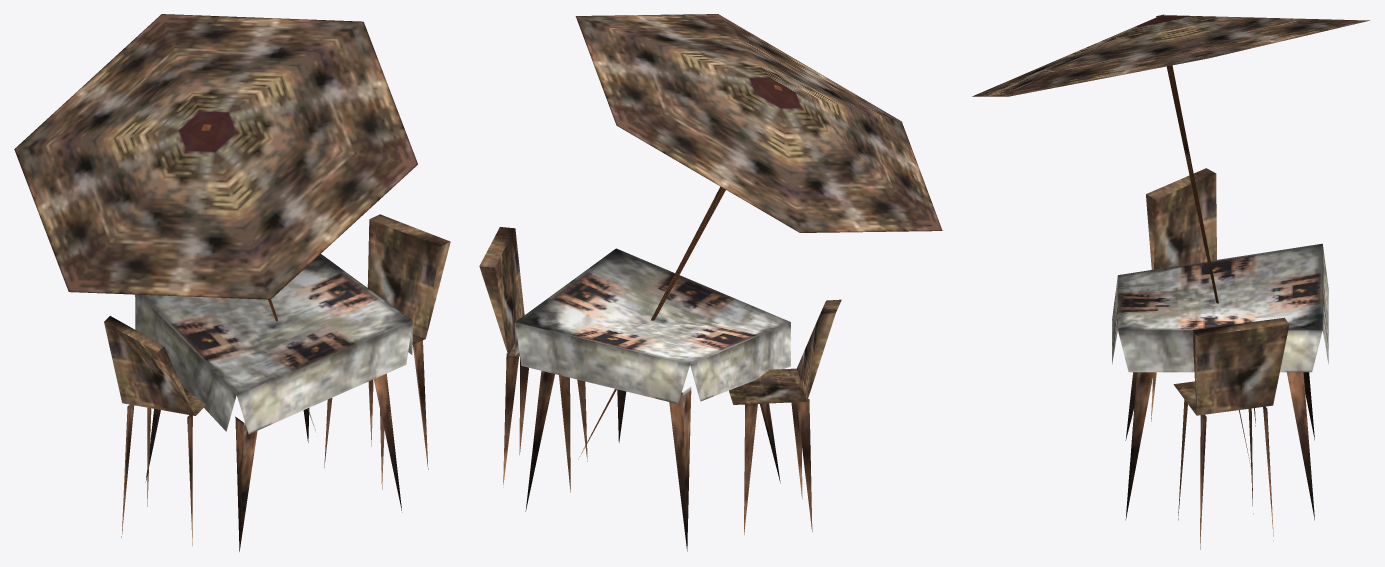
Rendered from Environment - Prop - Sidewalk Cafe Set - Damaged - PMcafeset_D.glb.
3 renders of one model, left to right at view 1: azimuth 30°, elevation 25°; view 2: azimuth 150°, elevation 25°; view 3: azimuth 270°, elevation 25°, orthographic.
Visible parts, largest first — view 1: PMCAFESET_D; view 2: PMCAFESET_D; view 3: PMCAFESET_D.
Part boxes in pixels (box(x1,y1,x2,y2)): PMCAFESET_D: box(14, 14, 450, 551); PMCAFESET_D: box(479, 14, 942, 551); PMCAFESET_D: box(972, 14, 1369, 549).
Bounding box in the file's own units: 17.48 × 18.62 × 14.49.
Materials: 1 (1 with a texture image).
